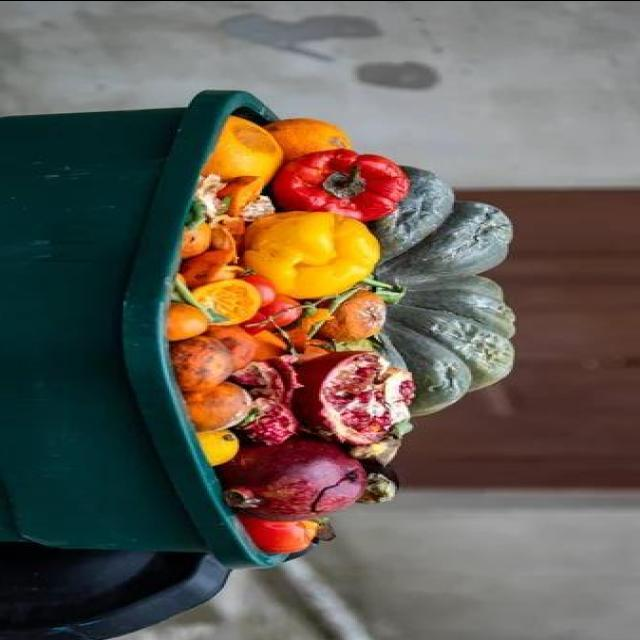Garbage: (169, 109, 518, 557)
